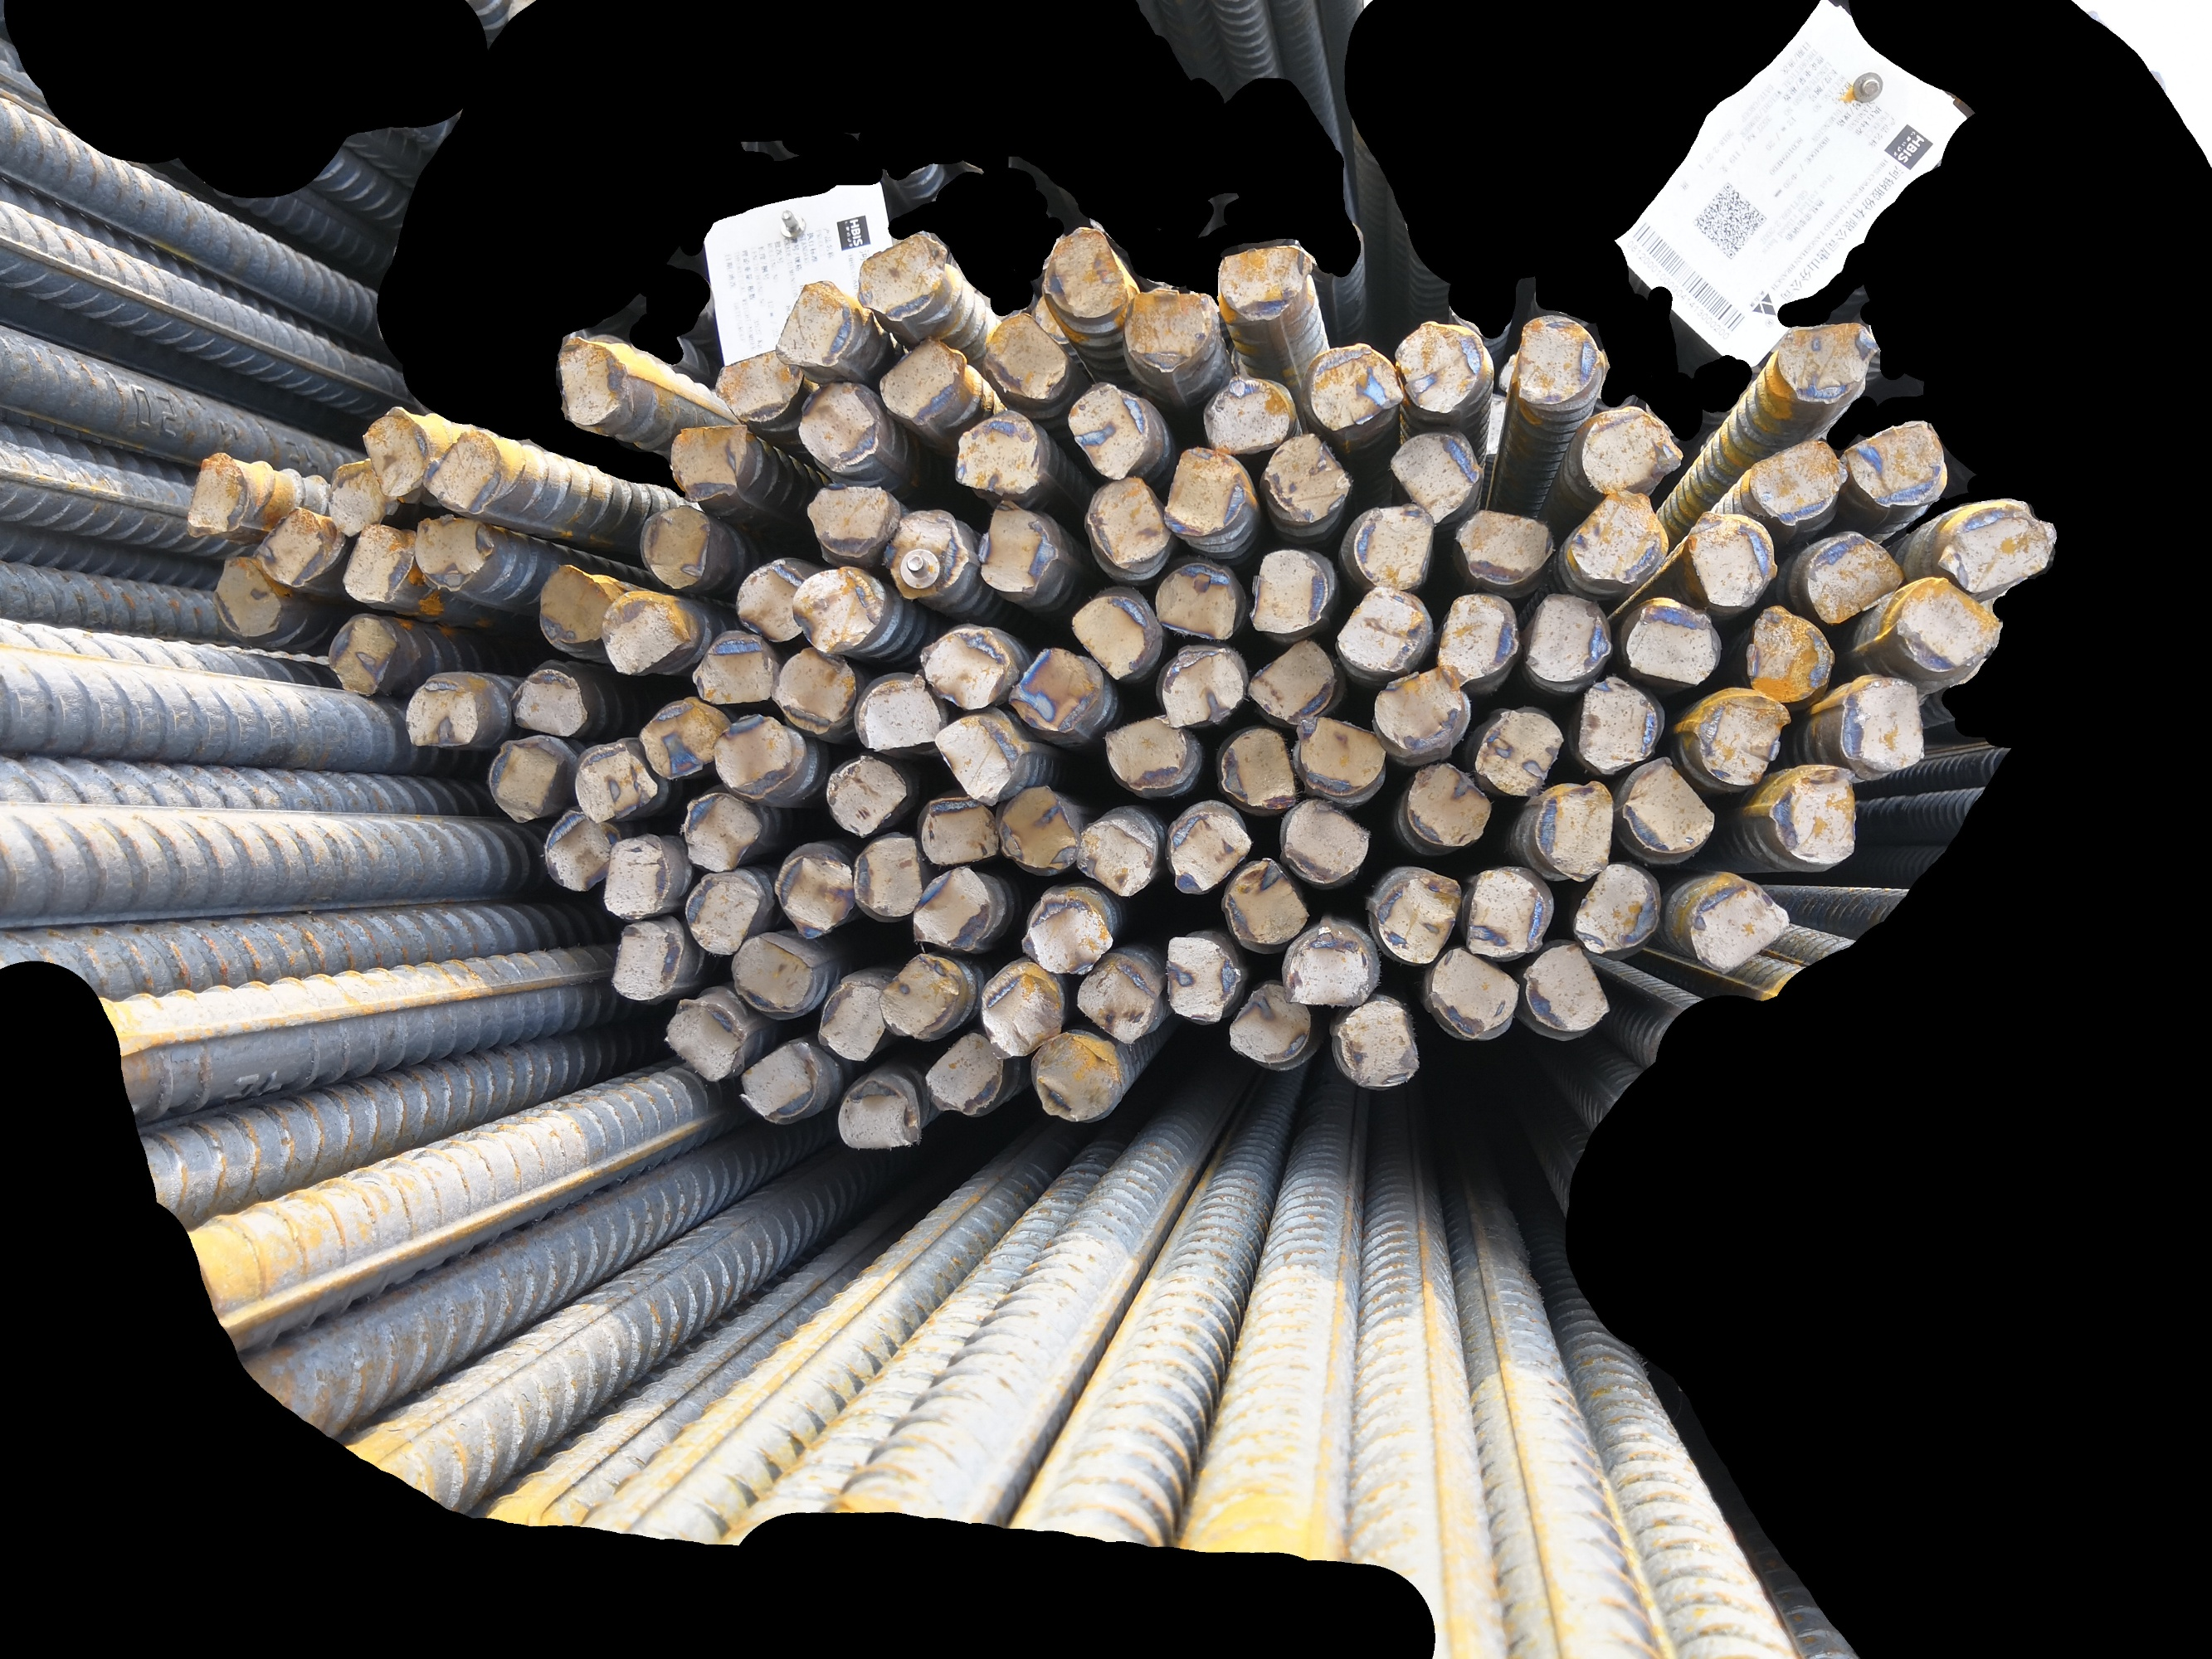rebar: (1937, 498, 2060, 596), (1794, 521, 1907, 627), (1886, 573, 2005, 673), (1684, 875, 1792, 978), (1614, 753, 1717, 861), (1686, 690, 1794, 791), (1762, 765, 1862, 875), (1558, 493, 1673, 587), (1522, 589, 1616, 702), (1842, 415, 1949, 514), (1333, 580, 1435, 683), (1422, 938, 1520, 1044), (1391, 315, 1494, 415), (1832, 669, 1928, 775), (1372, 662, 1473, 762), (1388, 425, 1485, 528), (1682, 509, 1780, 612), (1517, 936, 1612, 1040), (1769, 319, 1884, 406), (1006, 643, 1105, 742), (1747, 436, 1849, 532), (1473, 699, 1567, 803), (1462, 859, 1557, 964), (1302, 340, 1405, 434), (976, 957, 1067, 1063), (1370, 863, 1461, 969), (1529, 777, 1619, 884), (973, 495, 1062, 603), (1569, 859, 1666, 957), (852, 228, 952, 324), (1511, 312, 1605, 413), (880, 505, 973, 608), (1743, 603, 1835, 706), (1574, 674, 1666, 775), (1027, 1030, 1128, 1122), (1579, 404, 1682, 495), (1215, 854, 1311, 950), (788, 565, 887, 657), (1067, 380, 1156, 483), (948, 403, 1042, 498), (767, 645, 861, 741), (1257, 432, 1353, 526), (1121, 286, 1220, 376), (1452, 502, 1555, 589), (730, 551, 824, 645), (1400, 760, 1494, 854), (596, 586, 692, 678), (875, 333, 967, 429), (1330, 995, 1422, 1091), (1161, 443, 1252, 540), (931, 711, 1020, 810), (1042, 225, 1131, 324), (1625, 598, 1724, 687), (1082, 474, 1170, 575), (1157, 929, 1245, 1030), (1220, 978, 1313, 1072), (770, 277, 861, 373), (634, 692, 730, 782), (1018, 887, 1114, 978), (1274, 795, 1370, 885), (1164, 800, 1253, 897), (1278, 920, 1375, 1009), (875, 950, 967, 1042), (1293, 711, 1386, 803), (661, 993, 751, 1087), (1246, 545, 1337, 640), (919, 624, 1014, 713), (1069, 587, 1157, 683), (1072, 951, 1161, 1047), (795, 378, 882, 476), (1199, 371, 1297, 458), (1213, 242, 1313, 328), (1344, 500, 1438, 589), (485, 732, 572, 828), (1154, 641, 1250, 728), (1245, 640, 1340, 727), (983, 310, 1069, 408), (1438, 589, 1520, 690), (708, 709, 797, 802), (992, 784, 1081, 877), (1075, 807, 1163, 901), (849, 669, 945, 755), (1098, 711, 1194, 796), (729, 931, 819, 1019), (734, 1035, 823, 1126), (770, 849, 858, 941), (831, 1072, 927, 1155), (1154, 556, 1243, 645), (535, 561, 617, 657), (554, 335, 634, 432), (920, 1030, 1008, 1119), (824, 753, 913, 840), (711, 349, 807, 429), (682, 870, 767, 958), (1215, 721, 1299, 812), (422, 423, 504, 516), (666, 420, 755, 504), (607, 917, 687, 1009), (804, 481, 896, 561), (678, 789, 763, 875), (572, 742, 661, 824), (689, 627, 779, 708), (598, 831, 675, 925), (636, 502, 713, 596), (910, 864, 992, 951), (542, 807, 622, 896), (361, 401, 432, 500), (413, 509, 495, 592), (319, 455, 397, 542), (207, 552, 282, 641), (816, 976, 889, 1066), (404, 669, 485, 751), (251, 505, 328, 591), (915, 793, 1001, 870), (324, 612, 399, 699), (340, 519, 413, 608), (849, 833, 924, 918), (509, 662, 589, 739), (181, 450, 248, 540)
